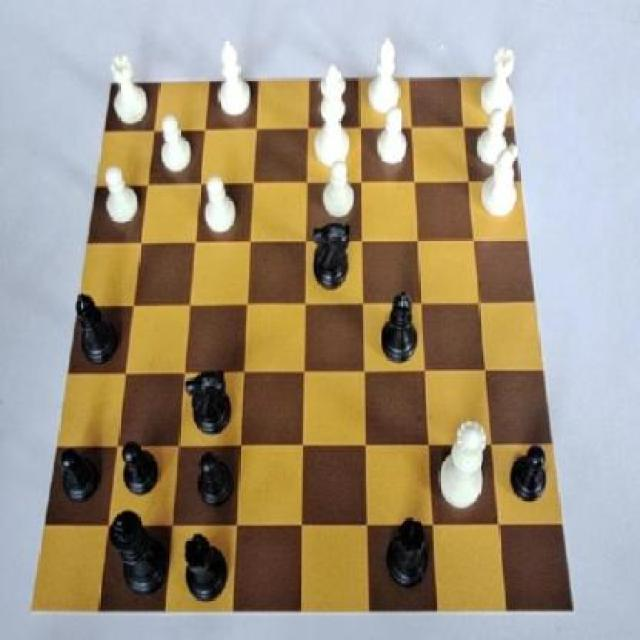bishop: (374, 282, 422, 374), (69, 289, 120, 375)
black-bishop: (108, 505, 172, 607)
black-king: (311, 213, 359, 304), (182, 363, 236, 439)
black-knight: (188, 442, 238, 520), (506, 432, 552, 514), (57, 443, 109, 509), (118, 430, 164, 504)
black-queen: (176, 534, 234, 610), (383, 517, 435, 597)
black-rook: (212, 30, 258, 121), (361, 34, 407, 123)
white-bishop: (310, 59, 354, 174)
white-king: (477, 141, 523, 224)
white-knight: (474, 103, 517, 175), (196, 177, 240, 243), (157, 110, 196, 182), (320, 152, 358, 225), (372, 108, 415, 172), (103, 163, 143, 228)
white-pawn: (436, 417, 488, 519)
white-queen: (101, 48, 157, 128), (472, 34, 518, 121)
